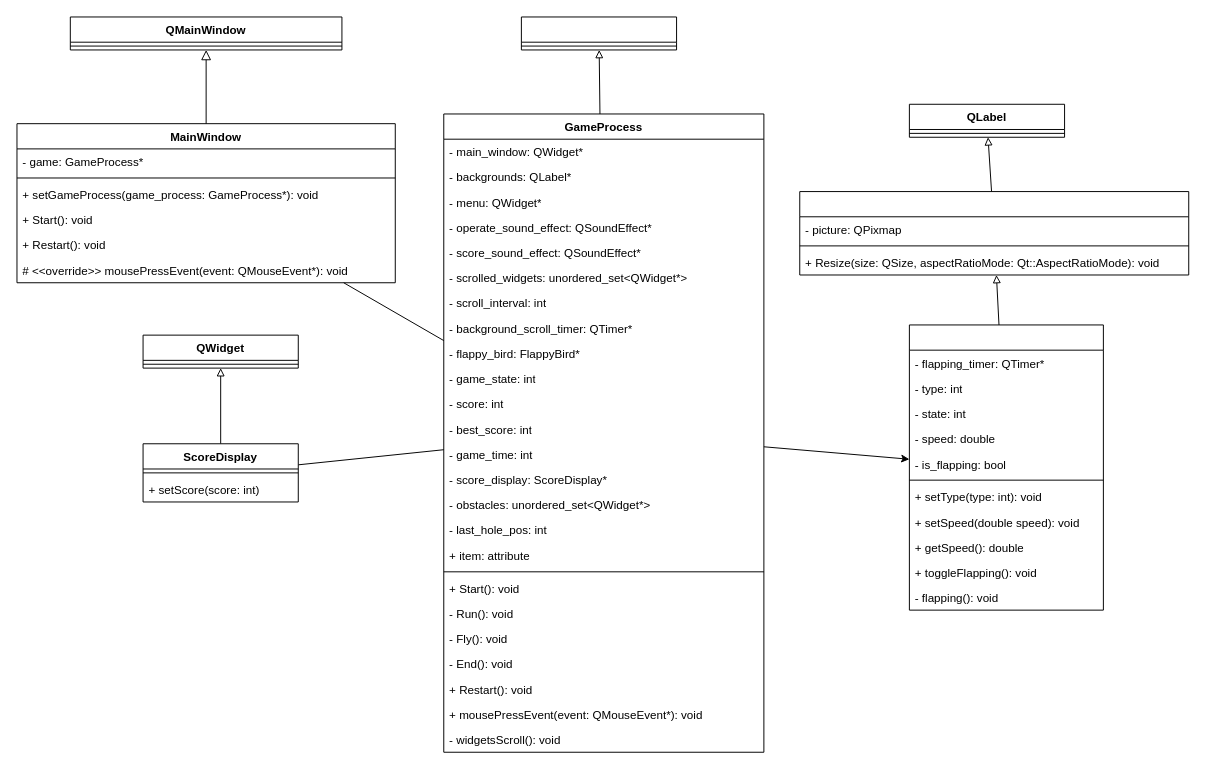
Some shapes in this 1206 by 772 pixel diagram are drawn without their labels. Each missing label, with the box of its shape:
FlappyBird: (908, 324, 1103, 610)
QObject: (520, 16, 677, 50)
ResizeablePicture: (799, 191, 1189, 275)
